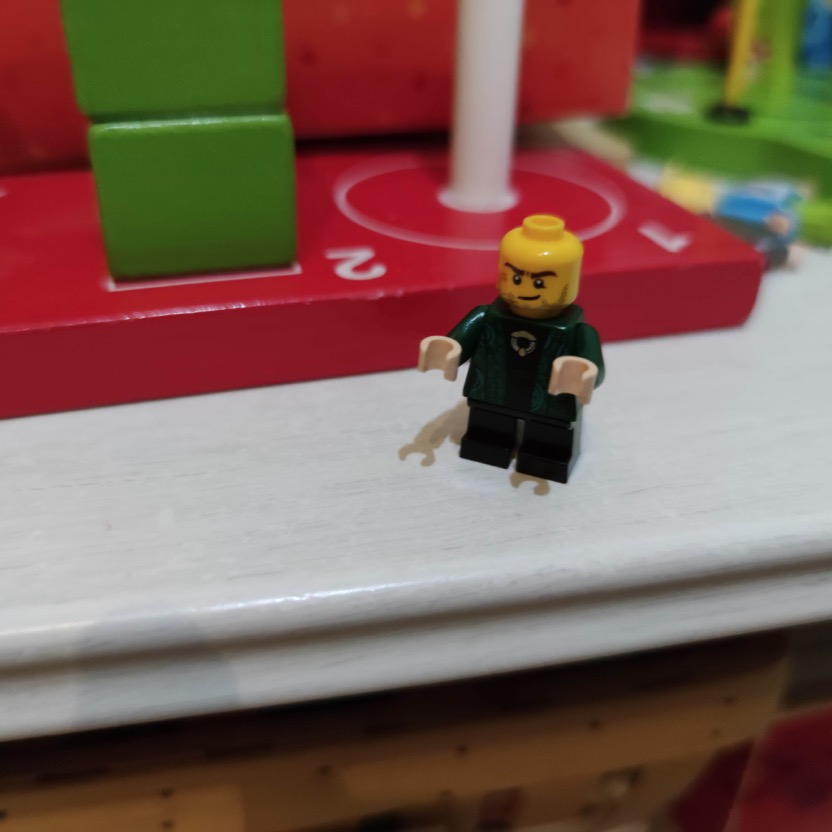lego: (411, 214, 608, 487)
